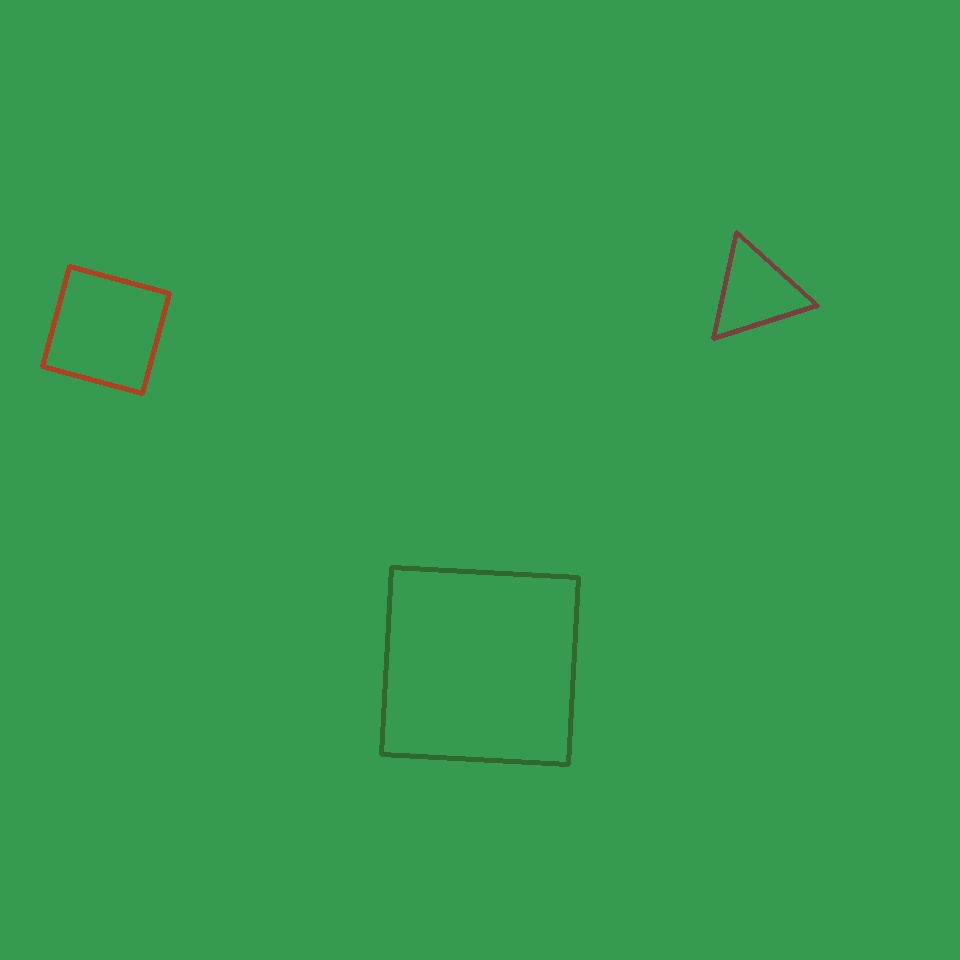circle: (704, 239, 808, 345)
square: (382, 567, 578, 764), (42, 266, 170, 394)
